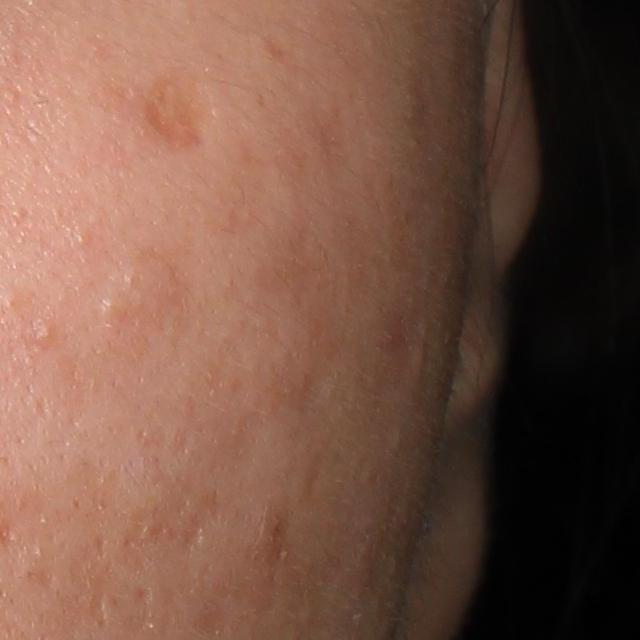atrophic_scar: (177, 486, 229, 551), (86, 560, 111, 626)
comedo: (35, 323, 60, 346), (99, 294, 119, 318)
melasma: (140, 70, 202, 157)
